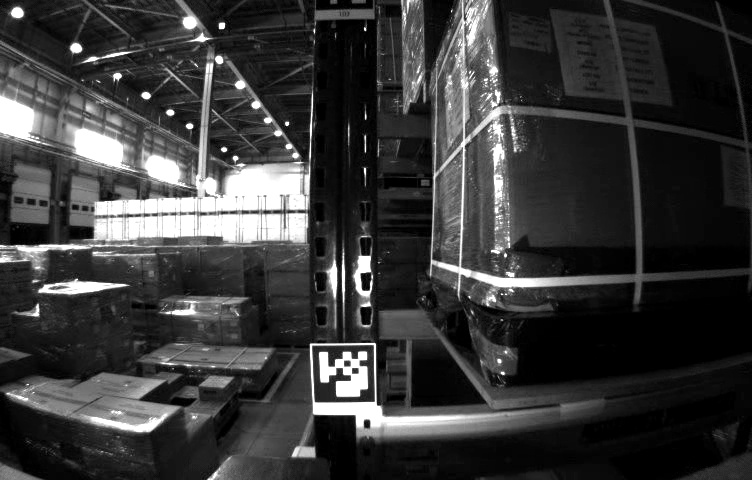True Barcode: (507, 12, 550, 55)
